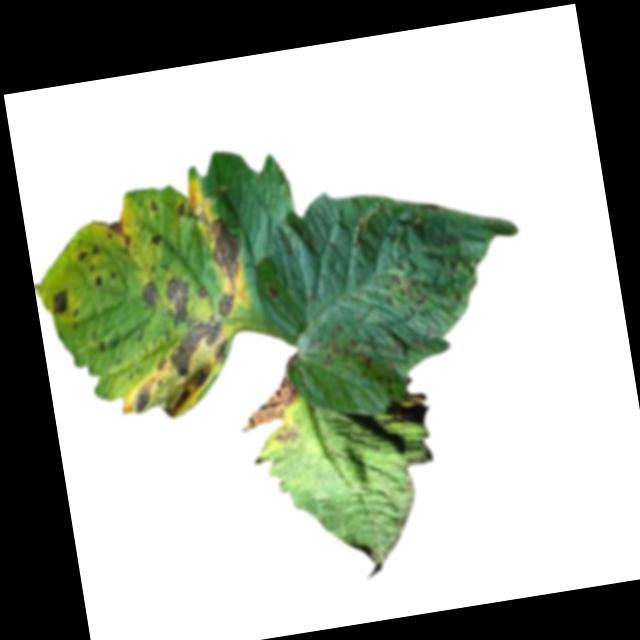Early_blight: (111, 313, 242, 426), (232, 354, 303, 431), (306, 323, 378, 381), (200, 214, 249, 292), (377, 259, 426, 316), (161, 273, 195, 326), (104, 216, 133, 255), (214, 290, 238, 320), (74, 240, 103, 263), (137, 281, 160, 309), (48, 290, 71, 317), (274, 425, 298, 446), (173, 201, 189, 221), (91, 274, 105, 291), (146, 198, 159, 215), (148, 234, 163, 248), (266, 287, 280, 301), (197, 288, 206, 300)
